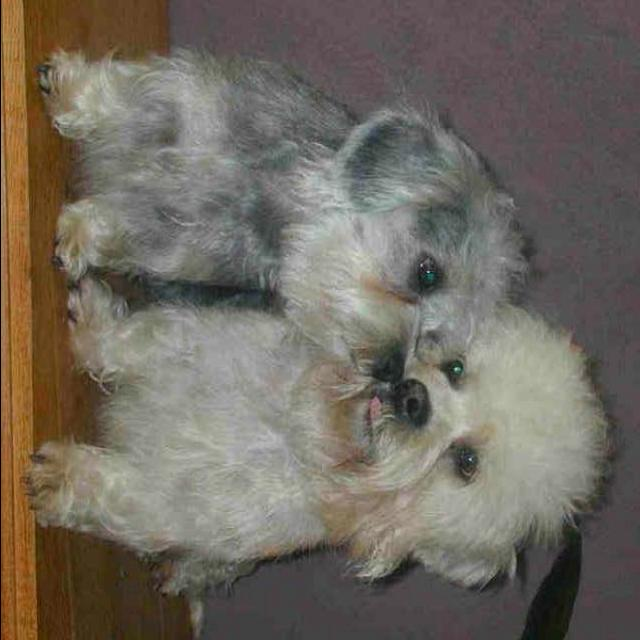dandie_dinmont: (18, 282, 605, 628), (36, 49, 524, 383)
